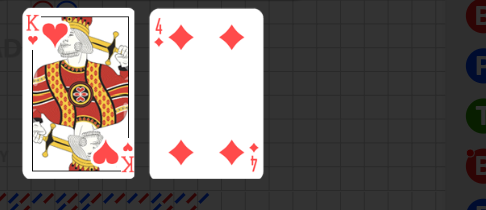4D: (248, 141, 260, 172)
KH: (25, 13, 41, 47)
